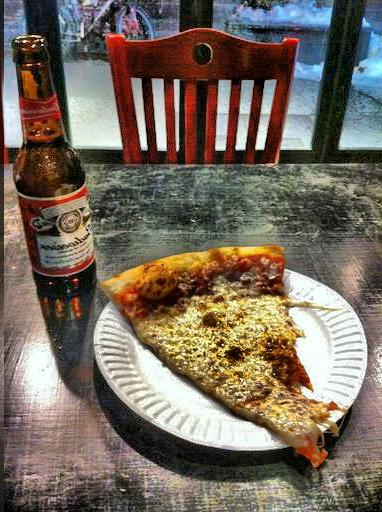pizza: (107, 230, 354, 475)
